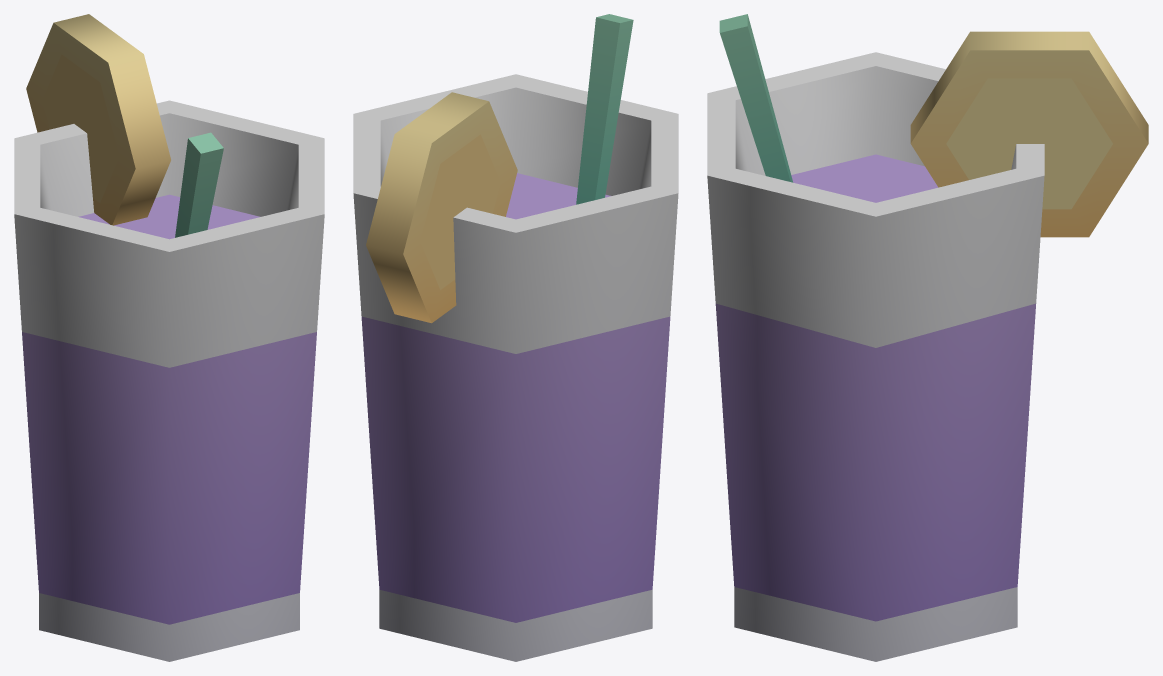
Rendered from soda-glass.glb.
3 renders of one model, left to right at view 1: azimuth 30°, elevation 25°; view 2: azimuth 150°, elevation 25°; view 3: azimuth 270°, elevation 25°, orthographic. The views are drawn at different scales.
Visible parts, largest first — view 1: soda-glass; view 2: soda-glass; view 3: soda-glass.
Boxes of the visible parts, bbox=[...] form: soda-glass: bbox=[14, 14, 324, 661]; soda-glass: bbox=[353, 14, 678, 661]; soda-glass: bbox=[707, 14, 1148, 661].
Size of the model in its own units: 0.2618 by 0.4134 by 0.2967.
